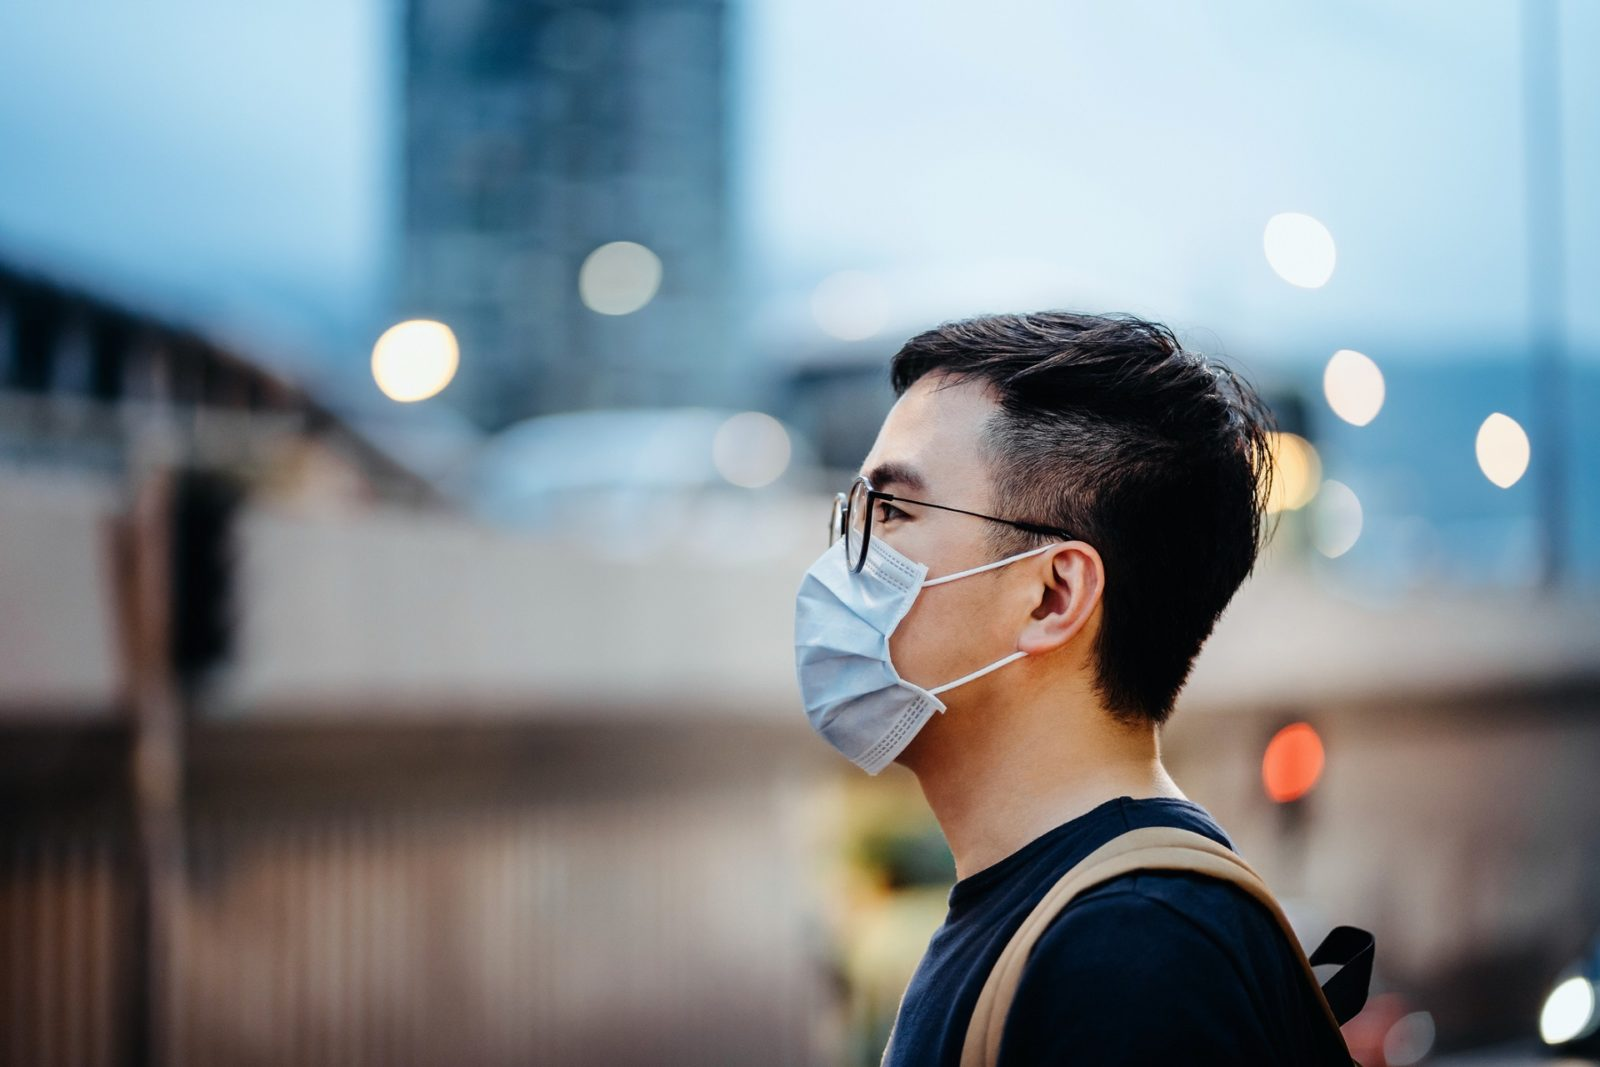with_mask: (784, 345, 1227, 767)
